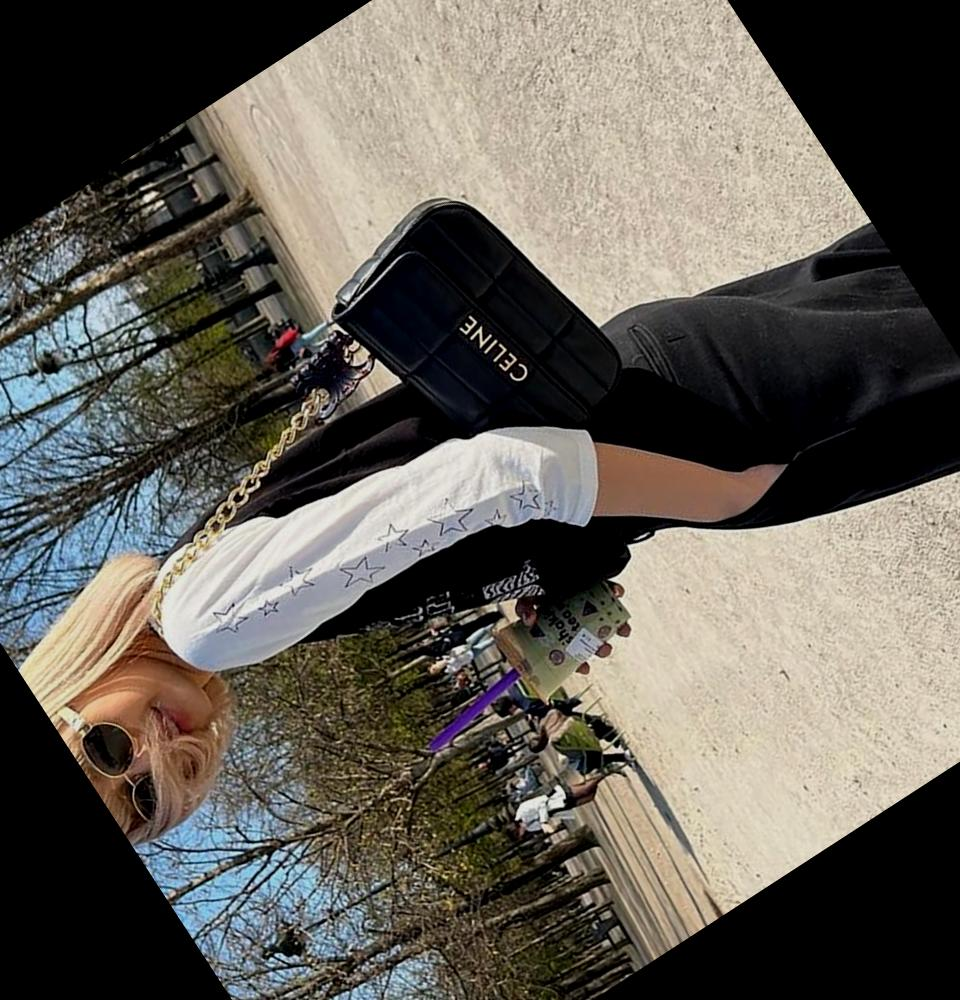CELINE: (453, 302, 531, 393)
